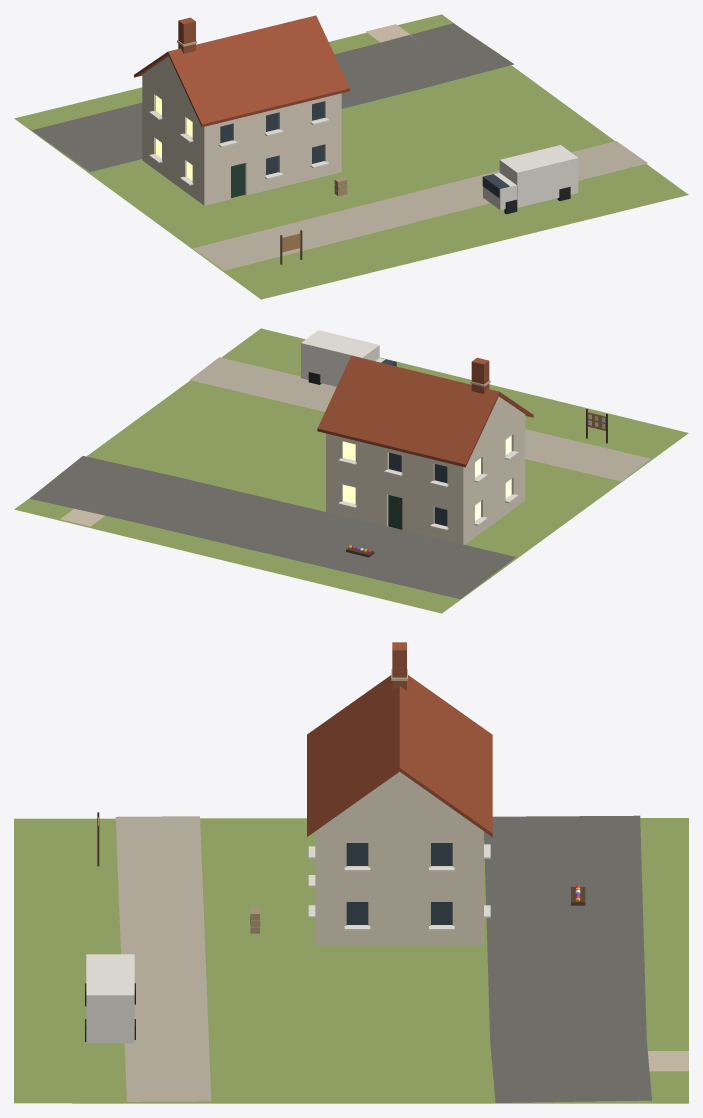
The model's file is tea_room-morning.glb.
3 views of the same model, one above another, from view 1: azimuth 30°, elevation 25°; view 2: azimuth 150°, elevation 25°; view 3: azimuth 270°, elevation 25° (orthographic). The views are drawn at different scales.
Visible parts, largest first — view 1: ground, ground_lanes, tea_room_shell, cut_roof_tea_room, prop_van, tea_room_walls, prop_staffboard; view 2: ground, ground_lanes, tea_room_shell, cut_roof_tea_room, prop_van, tea_room_walls; view 3: ground, ground_lanes, tea_room_shell, cut_roof_tea_room, prop_van, tea_room_walls.
Boxes of the visible parts, <box> form: ground: <box>14,14,688,299</box>; ground_lanes: <box>31,23,647,270</box>; tea_room_shell: <box>142,56,341,205</box>; cut_roof_tea_room: <box>134,15,350,127</box>; prop_van: <box>482,145,578,214</box>; tea_room_walls: <box>149,95,329,197</box>; prop_staffboard: <box>280,230,302,264</box>; ground: <box>14,328,688,613</box>; ground_lanes: <box>30,357,650,599</box>; tea_room_shell: <box>326,396,525,544</box>; cut_roof_tea_room: <box>317,355,533,467</box>; prop_van: <box>301,330,396,386</box>; tea_room_walls: <box>338,435,518,530</box>; ground: <box>14,818,688,1103</box>; ground_lanes: <box>115,815,688,1102</box>; tea_room_shell: <box>315,771,483,945</box>; cut_roof_tea_room: <box>307,642,492,836</box>; prop_van: <box>85,954,135,1043</box>; tea_room_walls: <box>308,843,490,930</box>.
Size of the model in its own units: 28.16 by 10.16 by 28.
